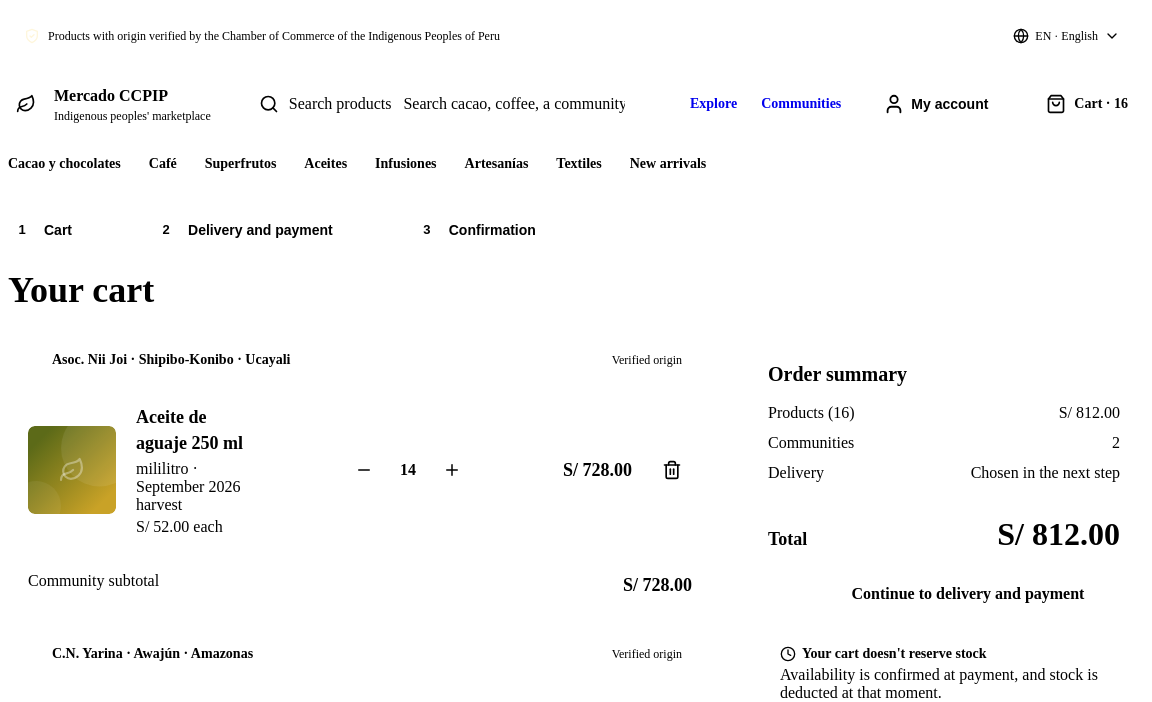
Test: Tienda en inglés (CCPIP-98) › un error del servidor se muestra por su código, no con el mensaje en español
Check: the heading "Your cart" is shown, box [8,270,154,310]
Check: the heading "Order summary" is shown, box [768,363,907,385]
Click the button named "Add one unit".
click(452, 470)  # box [432,446,472,494]
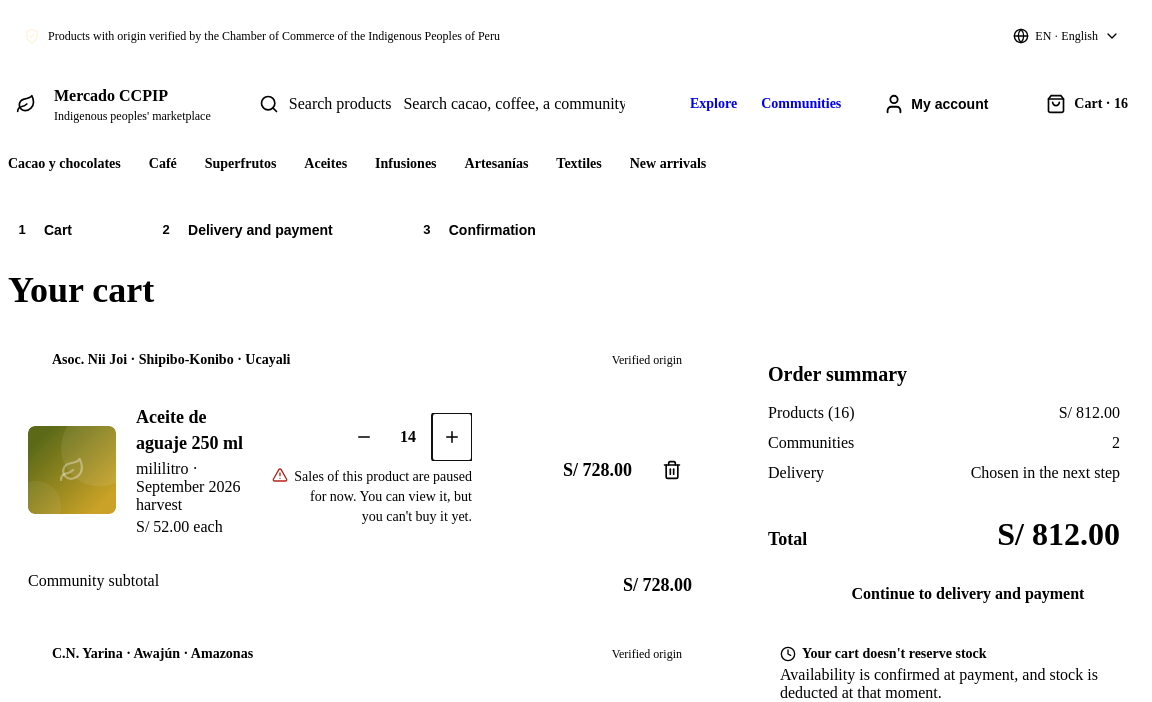
Check: the text "Sales of this product are paused for now" is shown, box [294,469,472,524]
